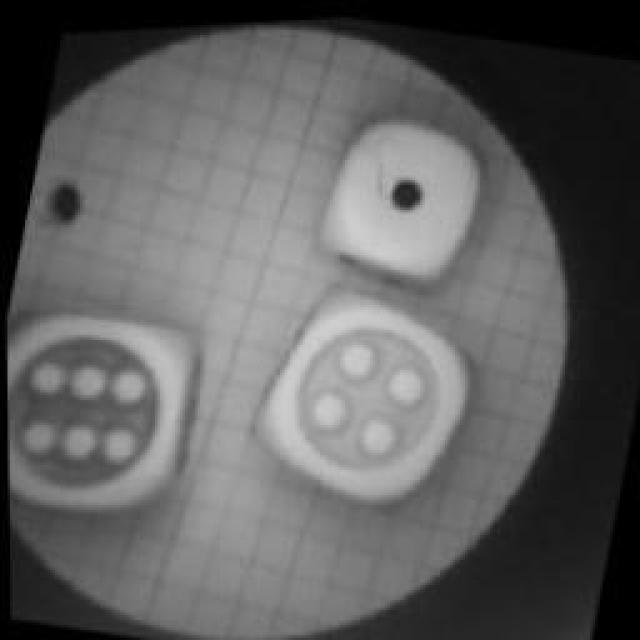dice_1: (305, 96, 500, 302)
dice_4: (231, 264, 499, 534)
dice_6: (4, 260, 234, 542)
